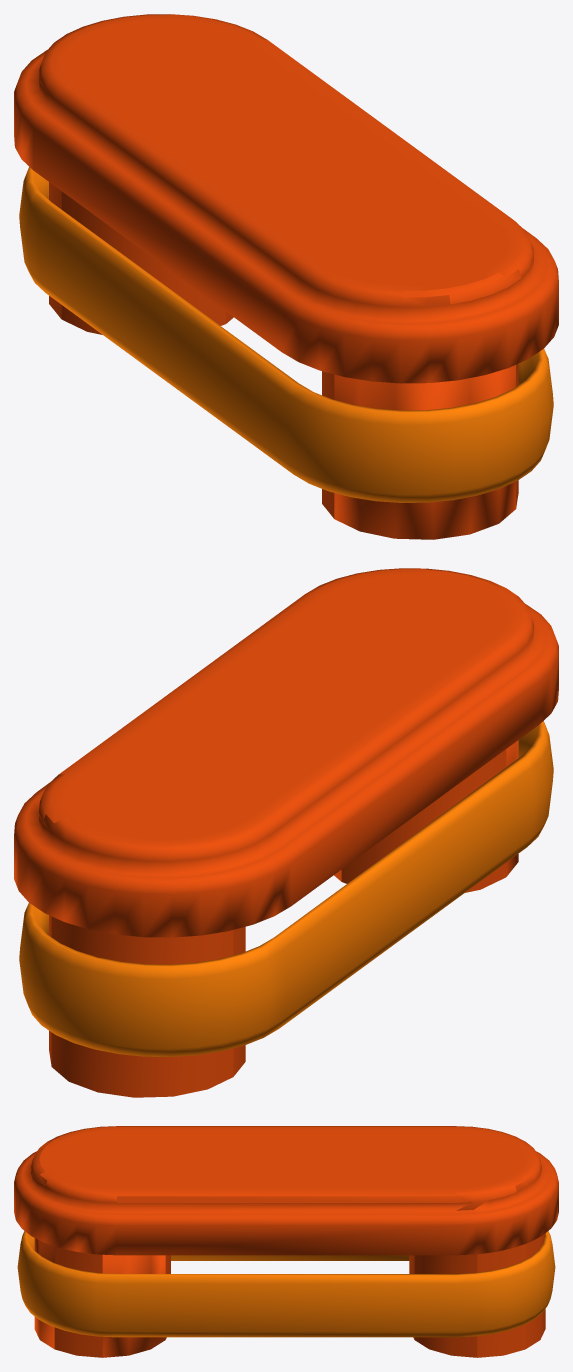
Rendered from SM_Pill01.FBX.
3 views of the same model, one above another, from view 1: azimuth 30°, elevation 25°; view 2: azimuth 150°, elevation 25°; view 3: azimuth 270°, elevation 25° (orthographic). The views are drawn at different scales.
Parts seen in each view (by area): view 1: SM_GOW_Pill01; view 2: SM_GOW_Pill01; view 3: SM_GOW_Pill01.
Boxes of the visible parts, x1,y1,x2,y2 form: SM_GOW_Pill01: [14, 14, 558, 539]; SM_GOW_Pill01: [14, 568, 558, 1097]; SM_GOW_Pill01: [14, 1126, 558, 1357].
Bounding box in the file's own units: 96 × 256 × 88.
